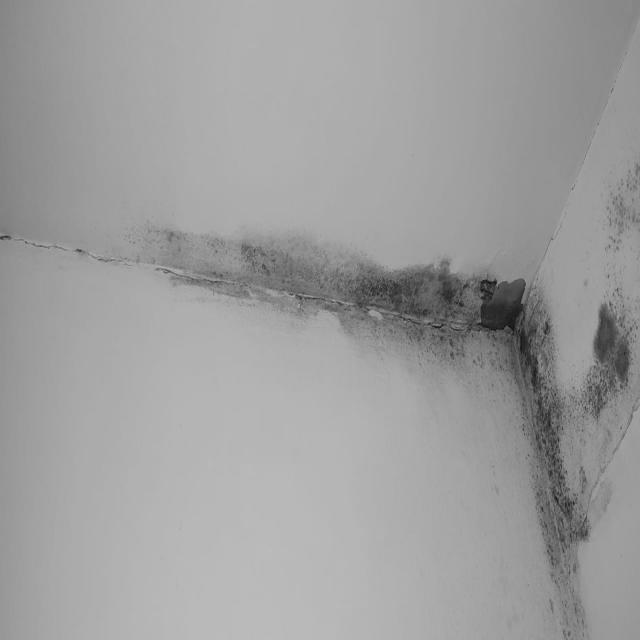stain marks: (124, 215, 558, 368), (524, 444, 596, 638), (582, 276, 639, 432), (499, 364, 582, 444), (595, 148, 640, 274), (596, 434, 633, 520), (450, 368, 500, 398)
